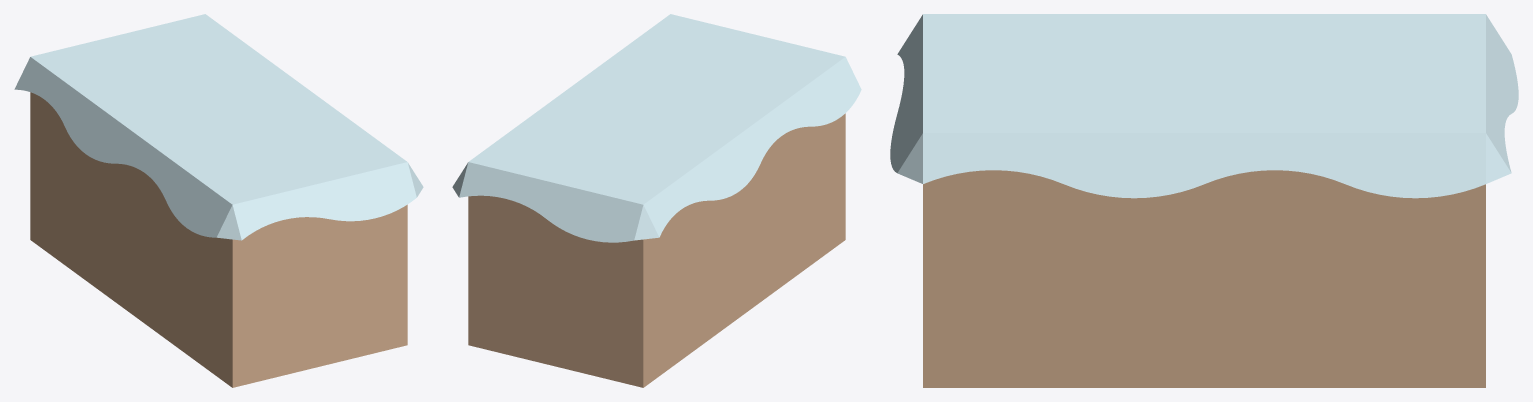
The model's file is blockSnowLong.glb.
3 views of the same model, side by side, from view 1: azimuth 30°, elevation 25°; view 2: azimuth 150°, elevation 25°; view 3: azimuth 270°, elevation 25° (orthographic). The views are drawn at different scales.
Parts seen in each view (by area): view 1: blockSnowLong; view 2: blockSnowLong; view 3: blockSnowLong.
Boxes of the visible parts, x1,y1,x2,y2 form: blockSnowLong: (14, 14, 423, 387); blockSnowLong: (452, 14, 861, 387); blockSnowLong: (890, 14, 1518, 387).
Size of the model in its own units: 1.23 by 1 by 2.23.
